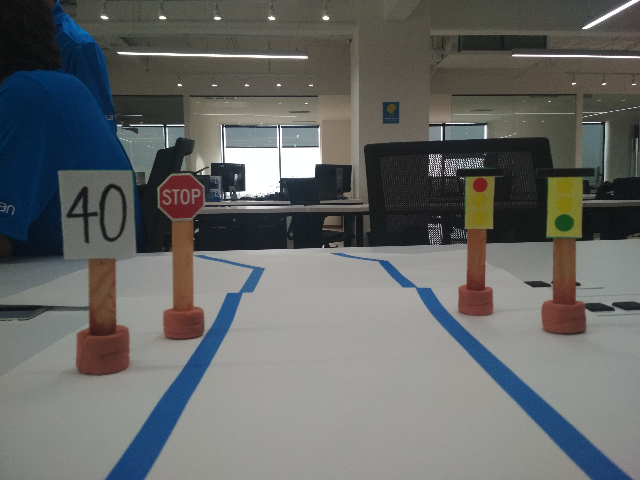Green Traffic Light: (534, 166, 601, 242)
Red Traffic Light: (452, 165, 501, 232)
Speed Limit 40: (51, 167, 141, 262)
Stop Sign: (155, 170, 208, 222)
